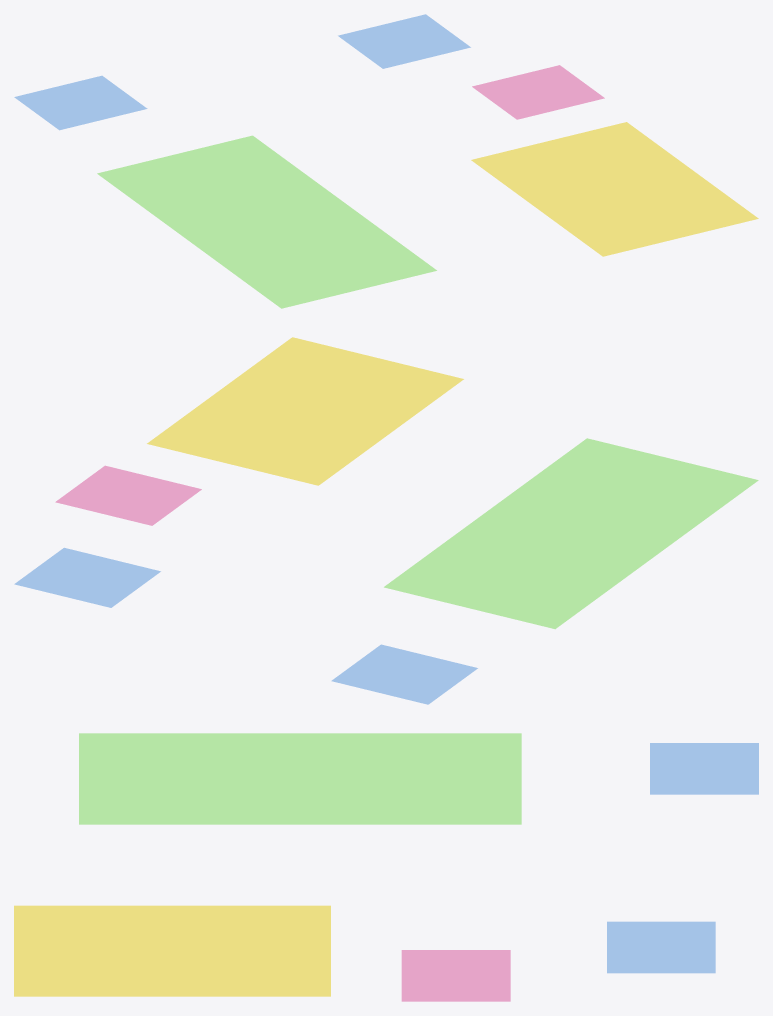
Rendered from zones.glb.
3 renders of one model, top to bottom at view 1: azimuth 30°, elevation 25°; view 2: azimuth 150°, elevation 25°; view 3: azimuth 270°, elevation 25°, orthographic. The views are drawn at different scales.
Parts seen in each view (by area): view 1: zone1, zone2, zone4 (×2), zone3; view 2: zone1, zone2, zone4 (×2), zone3; view 3: zone1, zone2, zone4 (×2), zone3.
Boxes of the visible parts, x1,y1,x2,y2 form: zone1: [97, 136, 436, 308]; zone2: [471, 122, 758, 256]; zone4 (×2): [14, 14, 470, 129]; zone3: [472, 65, 604, 119]; zone1: [384, 438, 758, 628]; zone2: [147, 337, 463, 485]; zone4 (×2): [15, 548, 477, 704]; zone3: [56, 466, 201, 525]; zone1: [79, 733, 521, 824]; zone2: [14, 905, 330, 996]; zone4 (×2): [607, 743, 758, 972]; zone3: [402, 950, 510, 1001].
Size of the model in its own units: 2630 by 0 by 3089.
